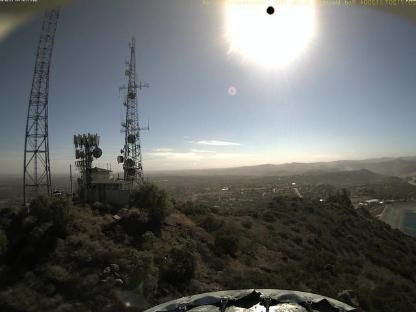smoke: (329, 158, 355, 172)
